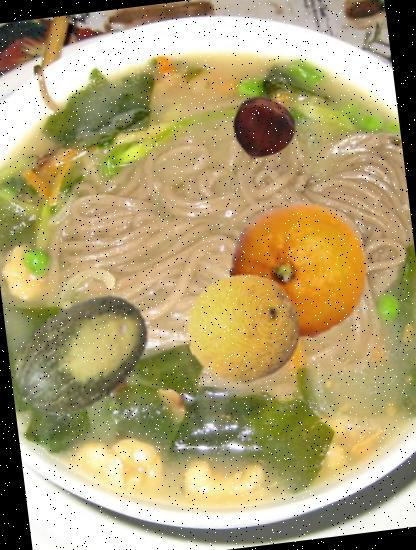Cantaloupe: (179, 264, 305, 390)
Chestnut: (227, 93, 299, 166)
Lemon: (222, 194, 375, 347)
Melon: (3, 279, 169, 445)
